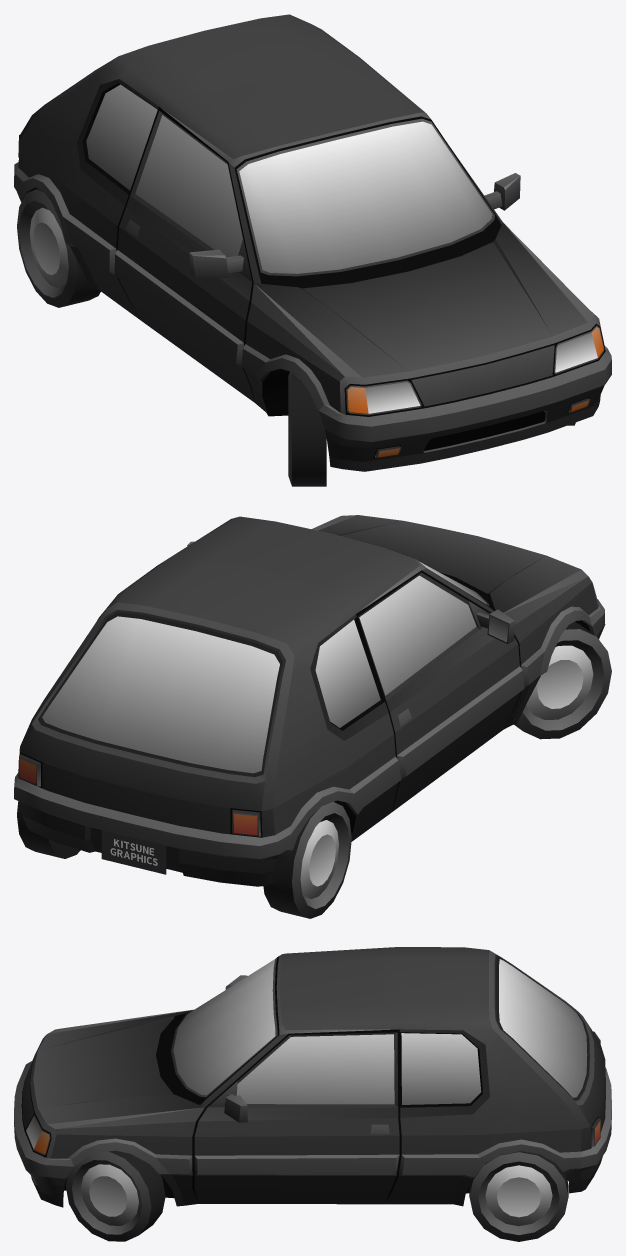
The model's file is vehicle.glb.
3 renders of one model, top to bottom at view 1: azimuth 30°, elevation 25°; view 2: azimuth 150°, elevation 25°; view 3: azimuth 270°, elevation 25°, orthographic. The views are drawn at different scales.
Visible parts, largest first — view 1: Body, RRW, FRW; view 2: Body, FRW, RRW, RLW; view 3: Body, RLW, FLW.
Boxes of the visible parts, x1,y1,x2,y2 form: Body: (14,14,611,471); RRW: (17,188,100,307); FRW: (288,371,326,486); Body: (14,515,605,886); FRW: (514,622,611,739); RRW: (263,802,351,918); RLW: (17,801,80,858); Body: (14,947,611,1207); RLW: (469,1151,568,1241); FLW: (65,1150,165,1241).
Size of the model in its own units: 1.26 by 0.9298 by 2.43.
1 material, 1 textured.
